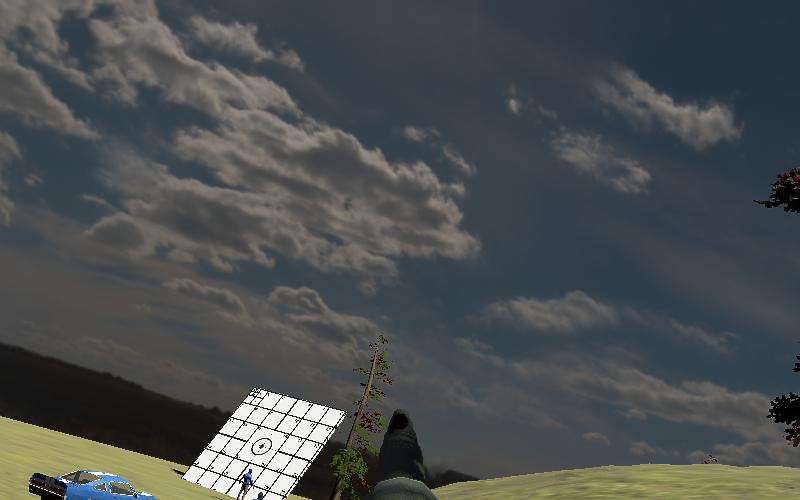Human: (236, 466, 256, 500)
car: (19, 462, 169, 500)
